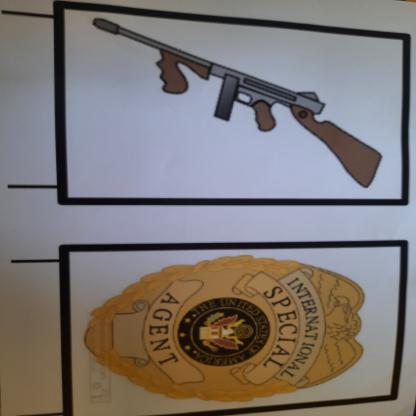Bootlegger: (74, 16, 395, 198)
G-man: (69, 253, 385, 410)
